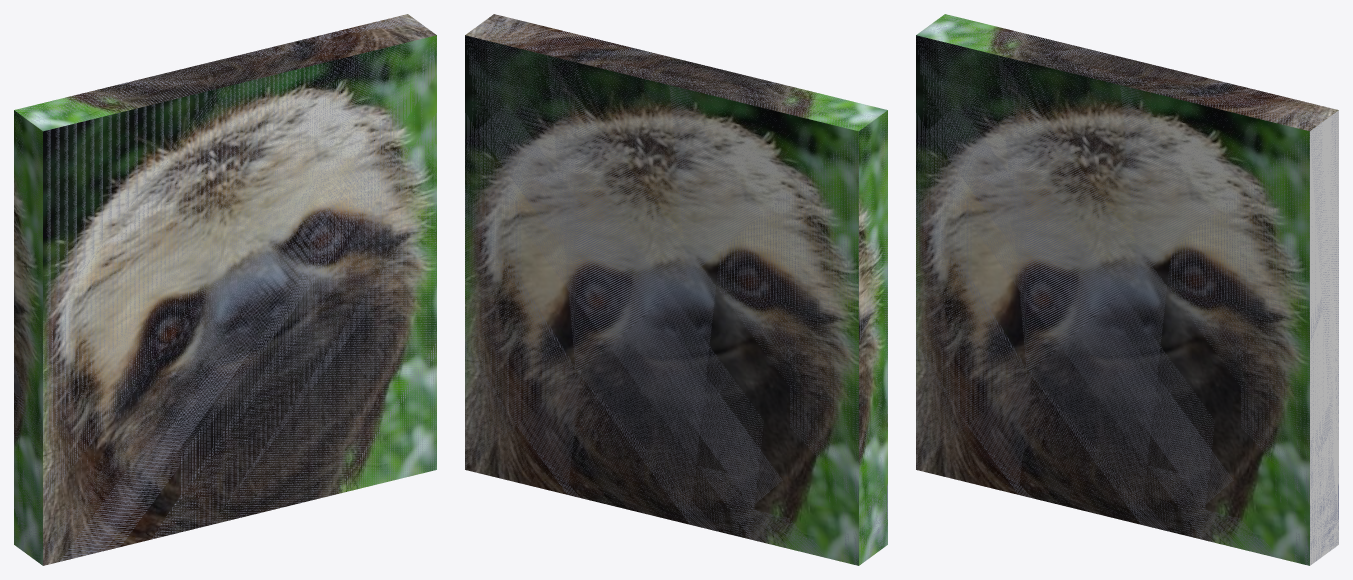
File: SlothCubert2.dae
3 renders of one model, left to right at view 1: azimuth 30°, elevation 25°; view 2: azimuth 150°, elevation 25°; view 3: azimuth 330°, elevation 25°, orthographic.
Visible parts, largest first — view 1: skpD4B4 (×2); view 2: skpD4B4 (×2); view 3: skpD4B4 (×3).
Part boxes in pixels (x1,y1,x2,y2): skpD4B4 (×2): [14, 14, 436, 565]; skpD4B4 (×2): [465, 14, 887, 565]; skpD4B4 (×3): [916, 14, 1338, 565].
Bounding box in the file's own units: 7.24 × 0.9253 × 7.64.
3 materials, 1 textured.
